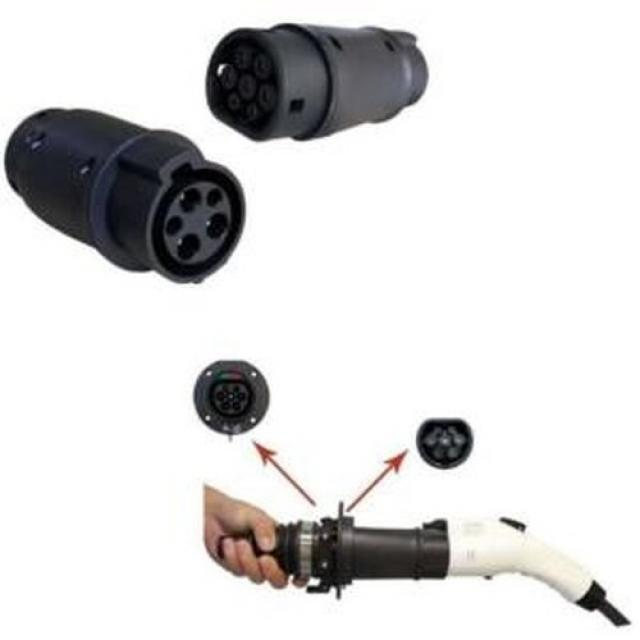Type 2: (183, 351, 292, 454)
